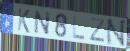8: (54, 13, 68, 39)
K: (16, 7, 31, 34)
L: (72, 14, 86, 41)
N: (106, 19, 127, 48), (33, 10, 52, 36)
Z: (89, 17, 106, 44)
